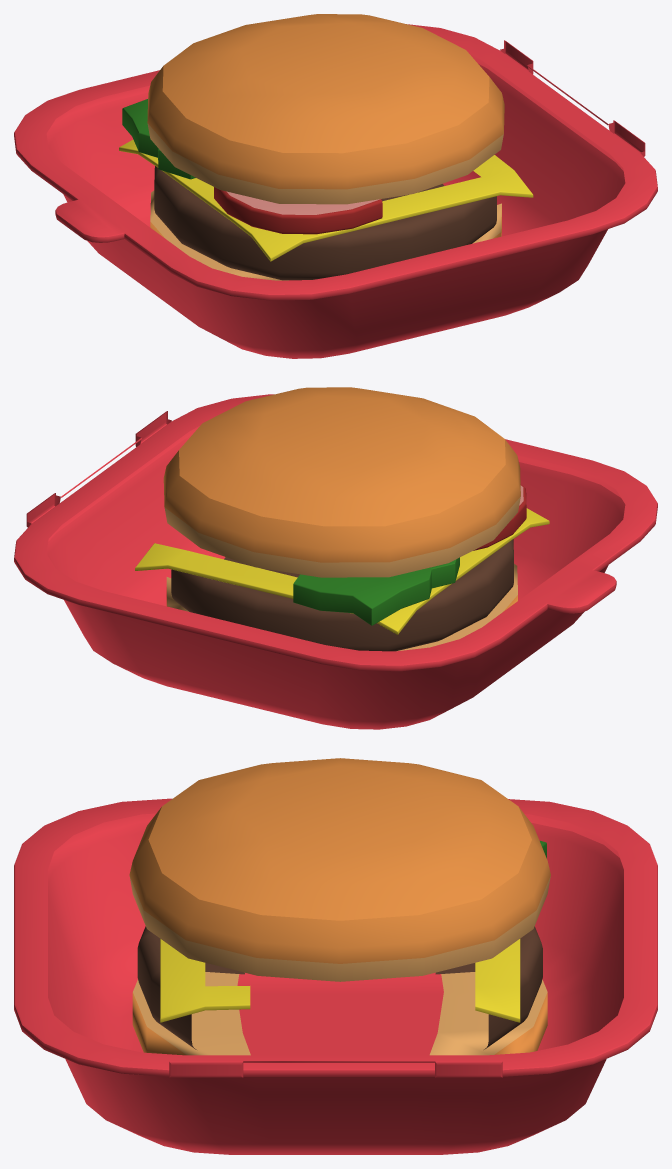
The model's file is burger_revize.fbx.
3 renders of one model, top to bottom at view 1: azimuth 30°, elevation 25°; view 2: azimuth 150°, elevation 25°; view 3: azimuth 270°, elevation 25°, orthographic. The views are drawn at different scales.
Parts seen in each view (by area): view 1: burger; view 2: burger; view 3: burger.
Part boxes in pixels (x1,y1,x2,y2): burger: [14, 14, 657, 358]; burger: [14, 387, 657, 729]; burger: [14, 758, 657, 1154].
Bounding box in the file's own units: 257 × 103 × 238.
